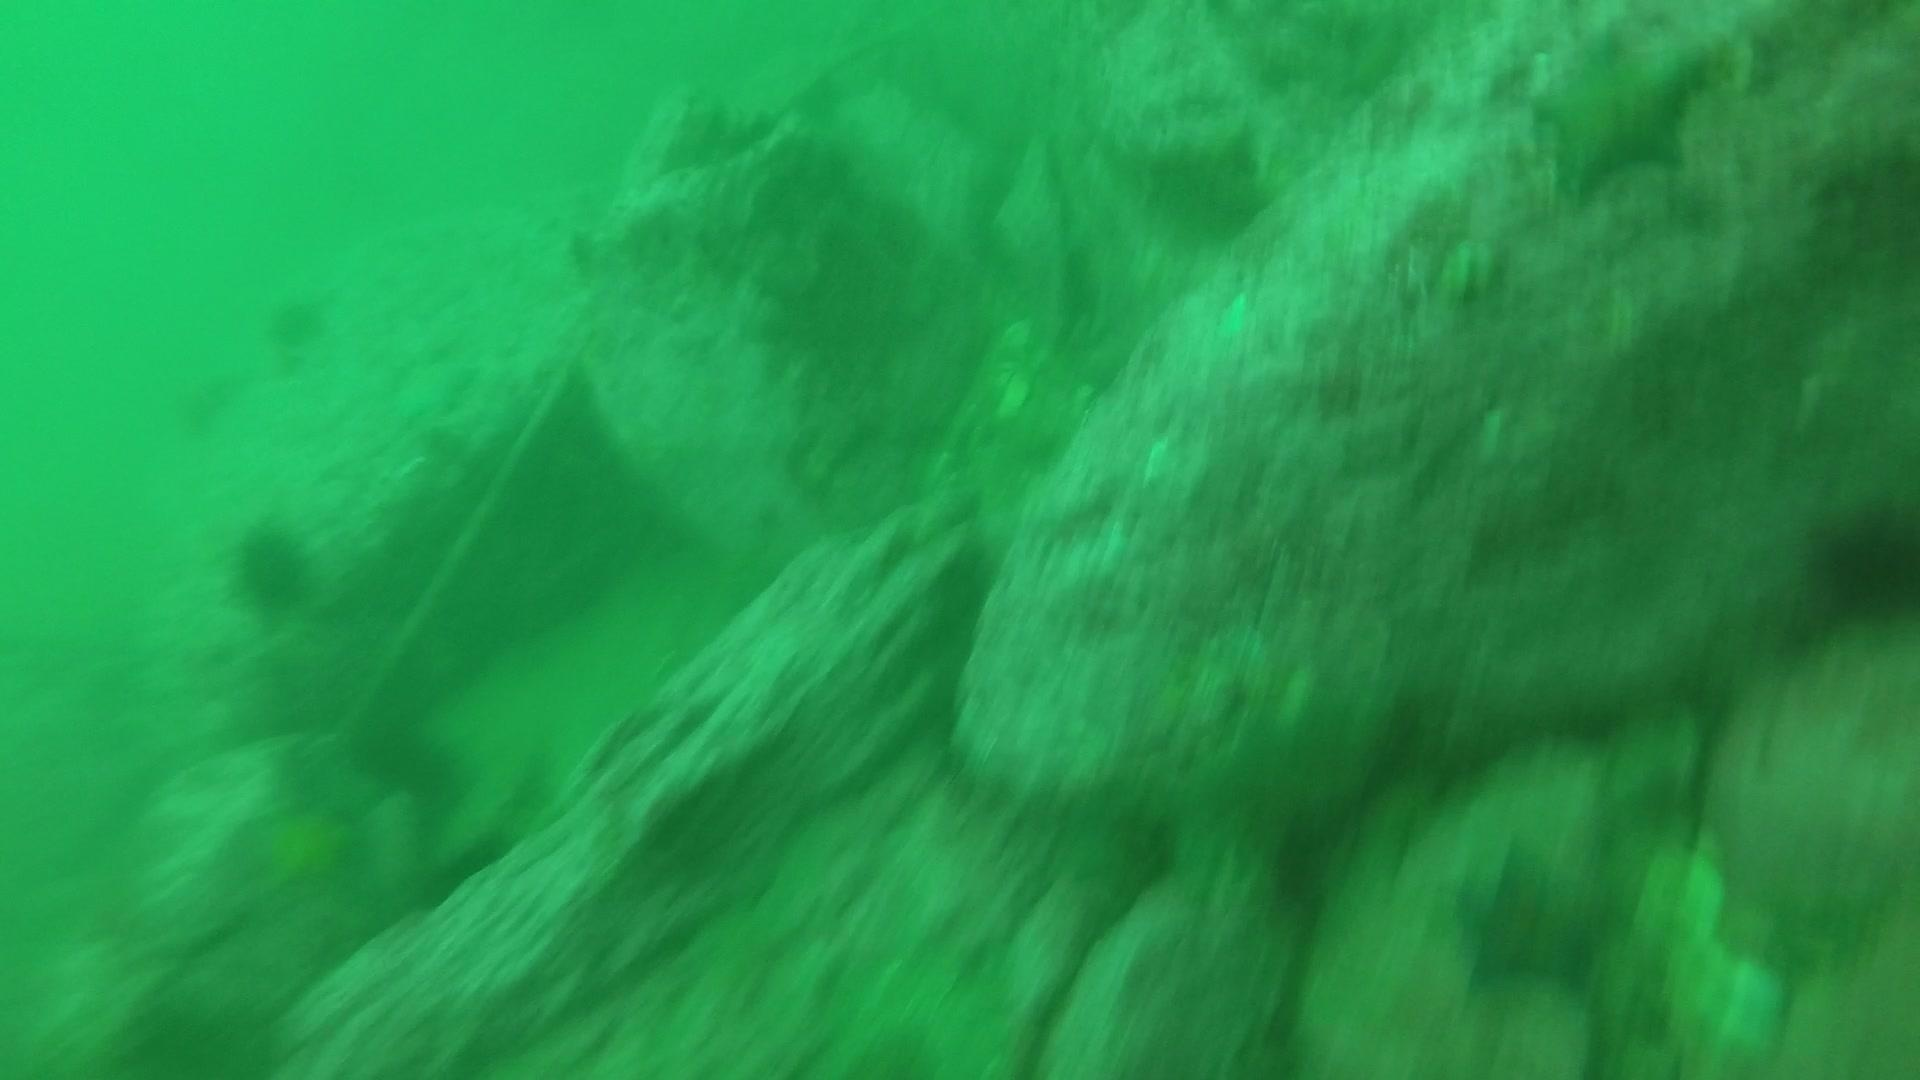echinus: (1803, 493, 1919, 629), (224, 516, 318, 616), (261, 287, 334, 355)
starfish: (1526, 24, 1726, 204), (1447, 843, 1610, 1000), (229, 794, 363, 897)
